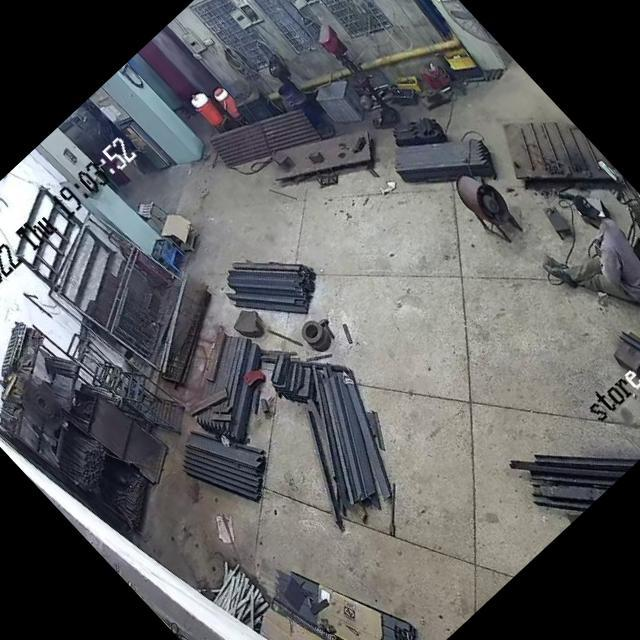person: (537, 197, 640, 326)
